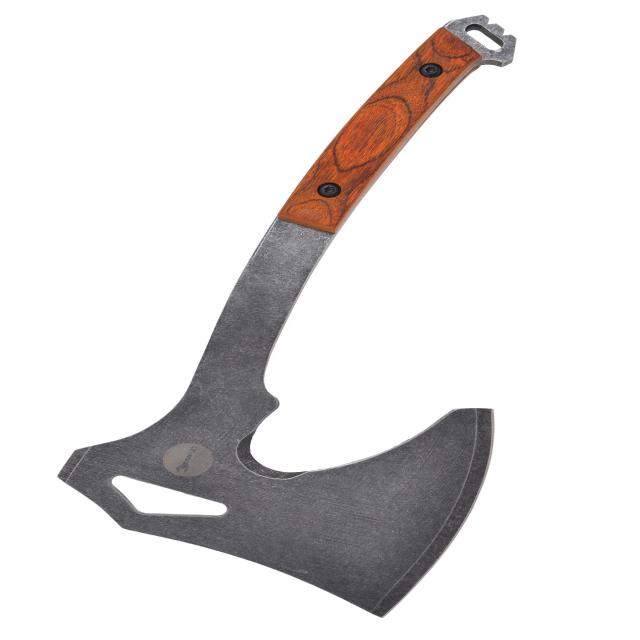Kapak: (118, 16, 536, 624)
